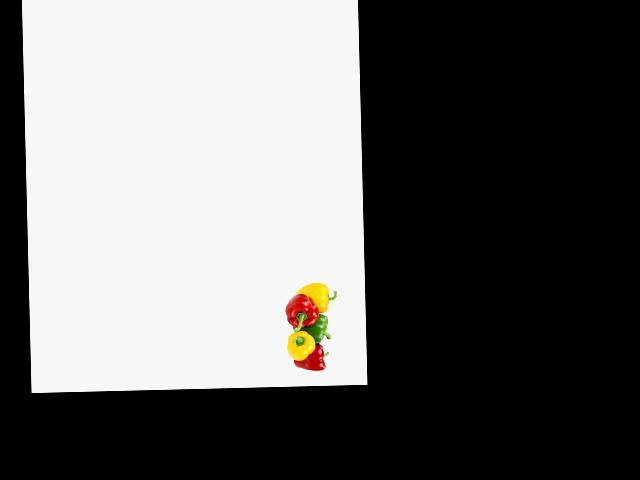bell_pepper: (297, 343, 330, 373)
